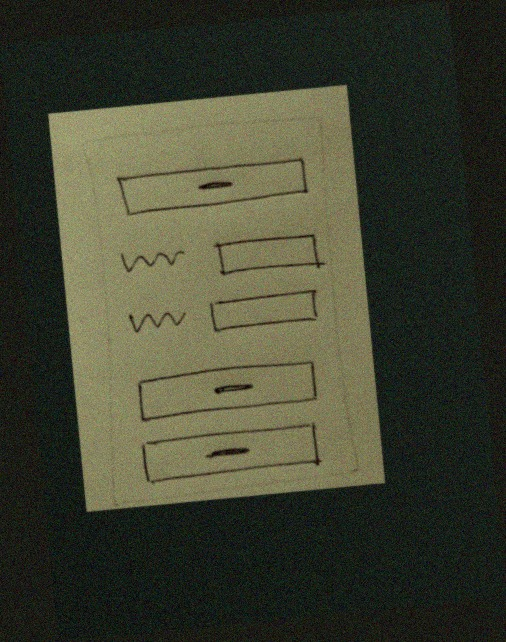button: (113, 152, 314, 228), (134, 354, 322, 427), (135, 421, 328, 489)
text: (116, 237, 190, 278), (125, 302, 192, 340)
text_input: (208, 227, 327, 284), (203, 285, 326, 337)
